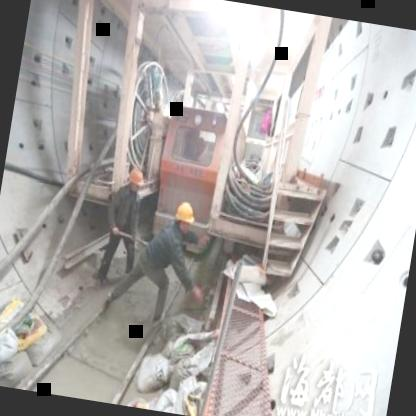helmet: (172, 197, 198, 238), (127, 166, 144, 192)
